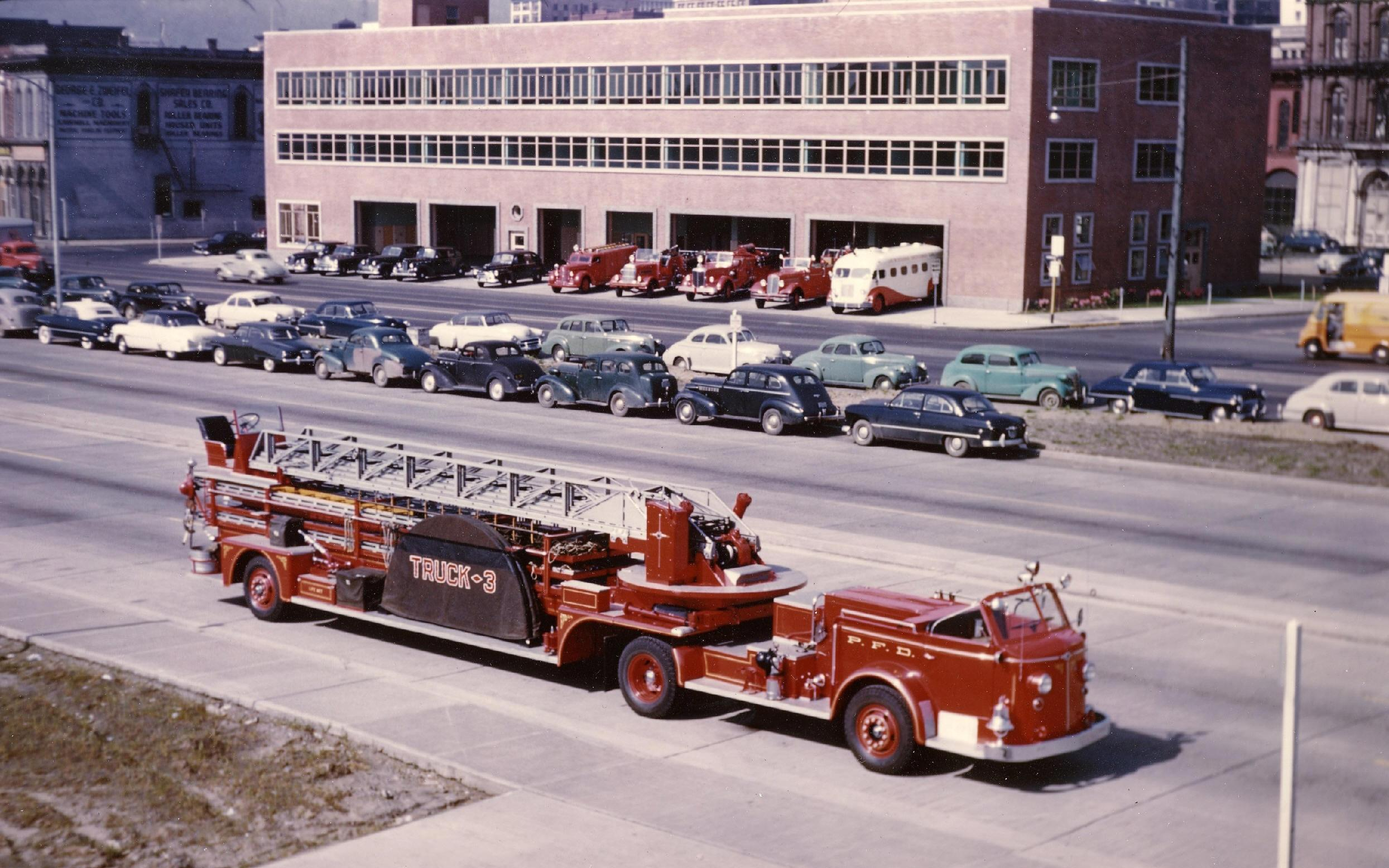Fire-engine: (179, 406, 1113, 775)
